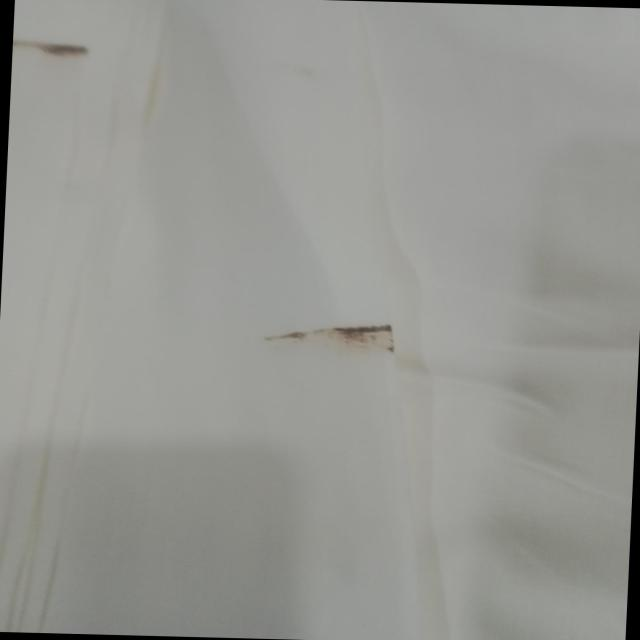stain: (256, 314, 408, 359), (12, 29, 96, 61)
